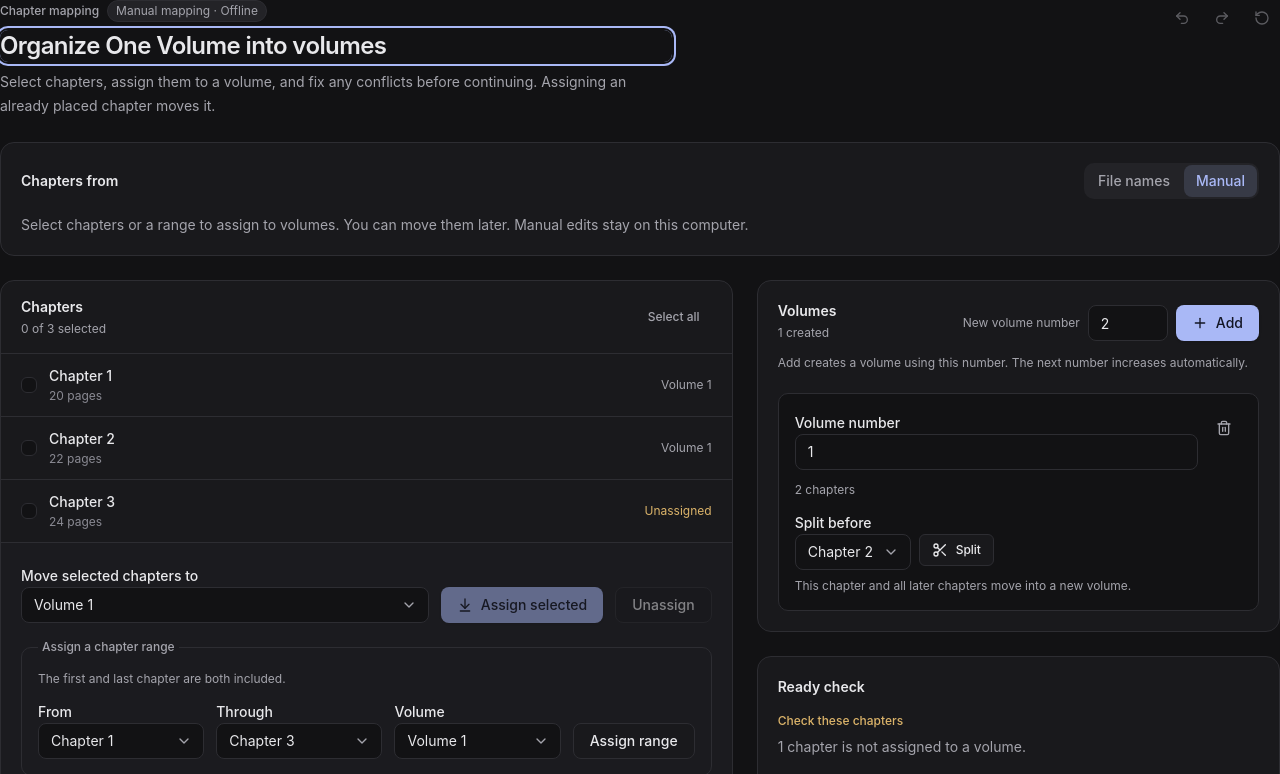
Test case: mapping editor › shows a message and leaves the volume unchanged when the typed number is refused
Replace the text in the field named "Volume number for volume 1" with "abc" at (996, 452), box [795,434,1198,470]
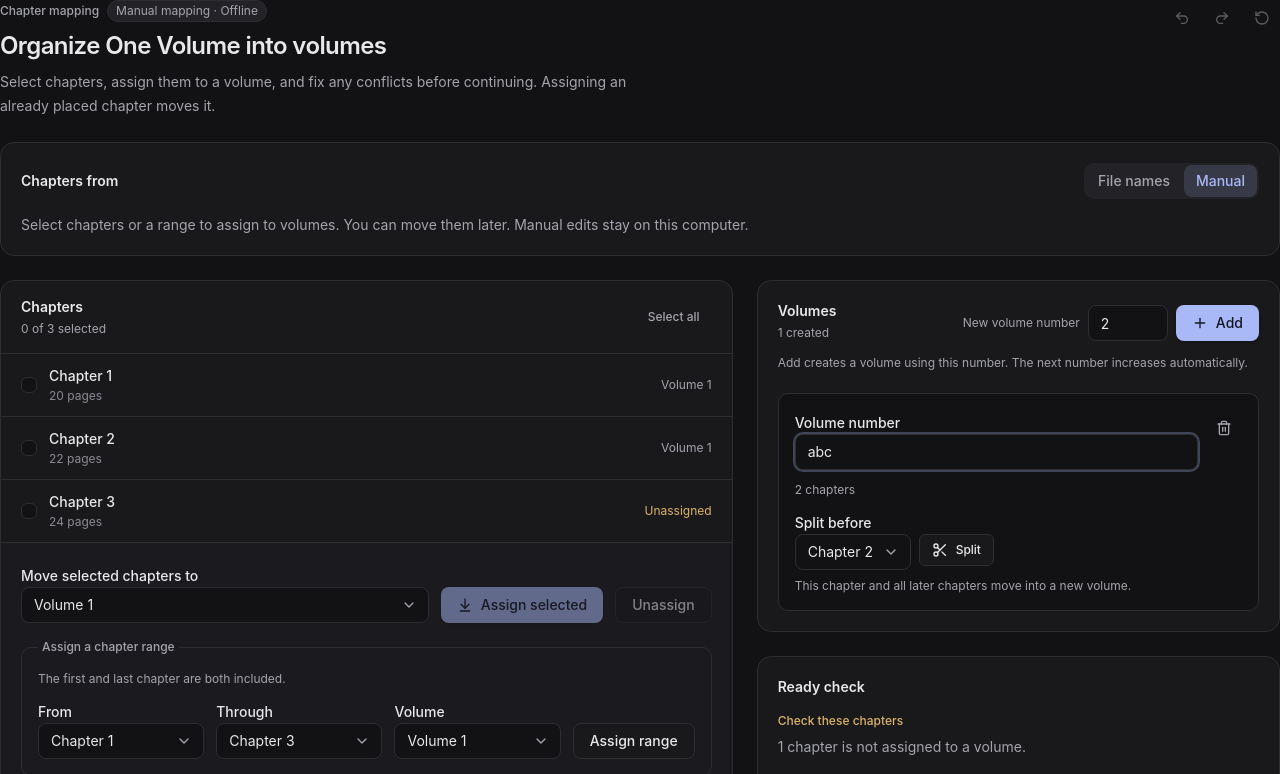
Press Tab
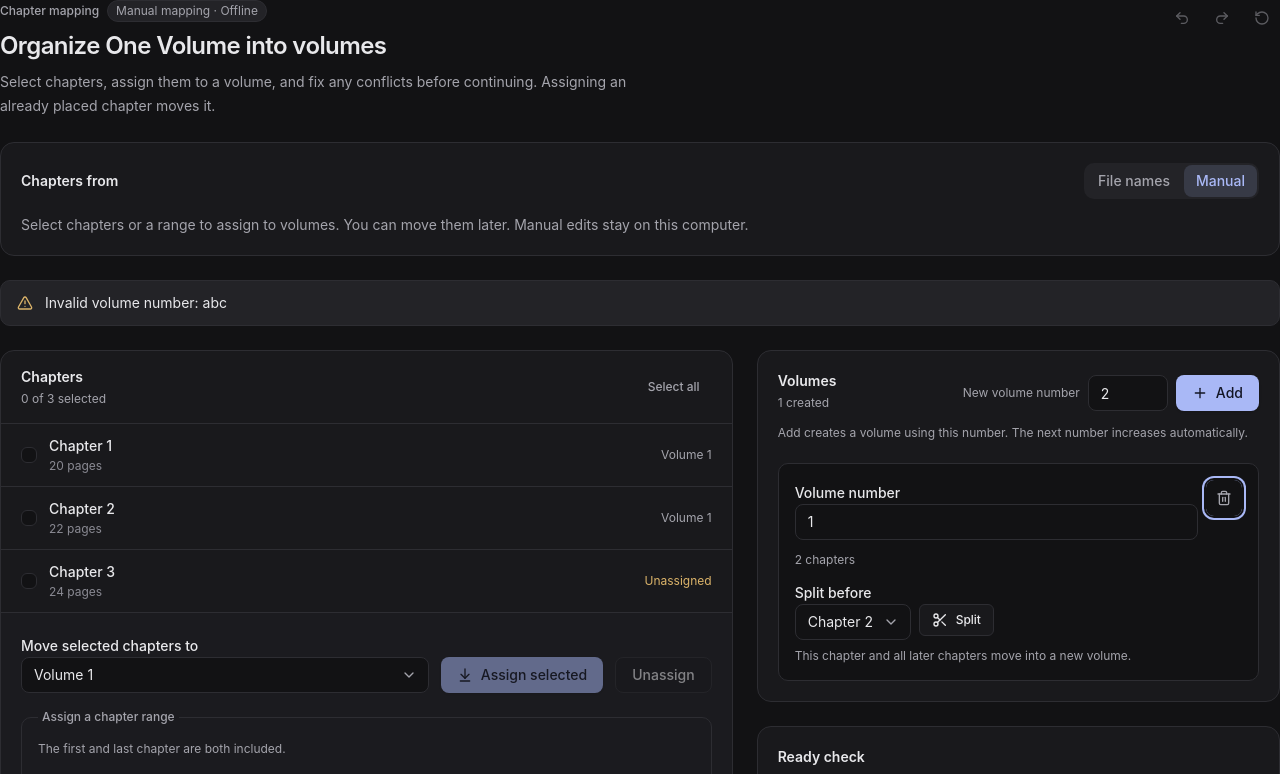
Expected: the button with aria-label "Split volume 1" is shown, [919,604,994,636]
Result: the text "Invalid volume number: abc" is shown at [45,293,227,313]
Result: the field named "Volume number for volume 1" holds "1" at [795,504,1198,540]
